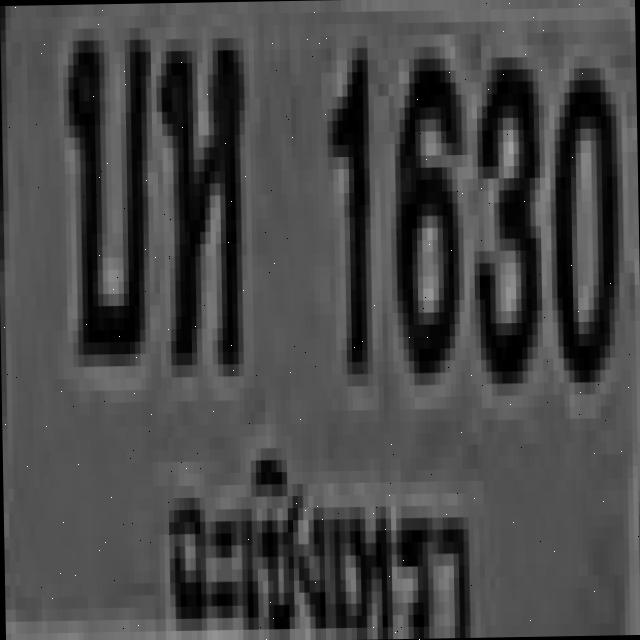0: (548, 56, 614, 370)
1: (326, 35, 368, 362)
3: (467, 45, 535, 372)
35BorBaiMai: (62, 15, 150, 354)
50HorHeep: (160, 26, 244, 364)
6: (388, 46, 460, 373)
Chachoengsao: (159, 429, 482, 640)
